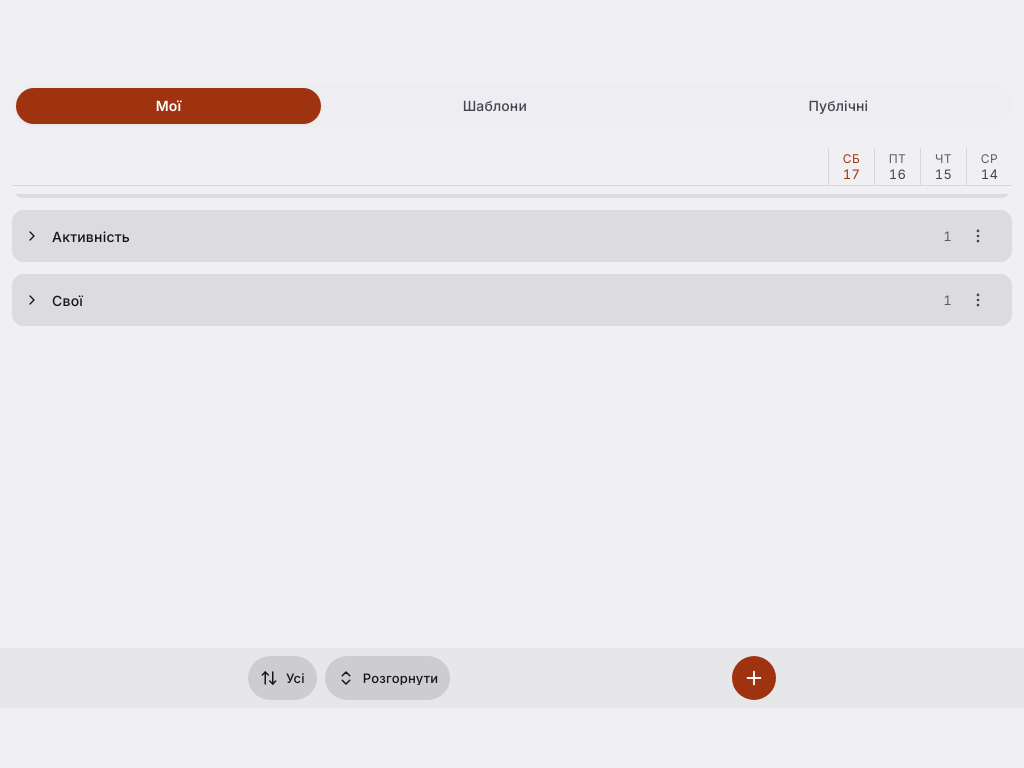
Test: пріоритет › порожній рівень каже, що саме порожнє
This screenshot has width=1024, height=768.
Step 1. Click the button "Усі" → (282, 678), box [248, 656, 317, 700]
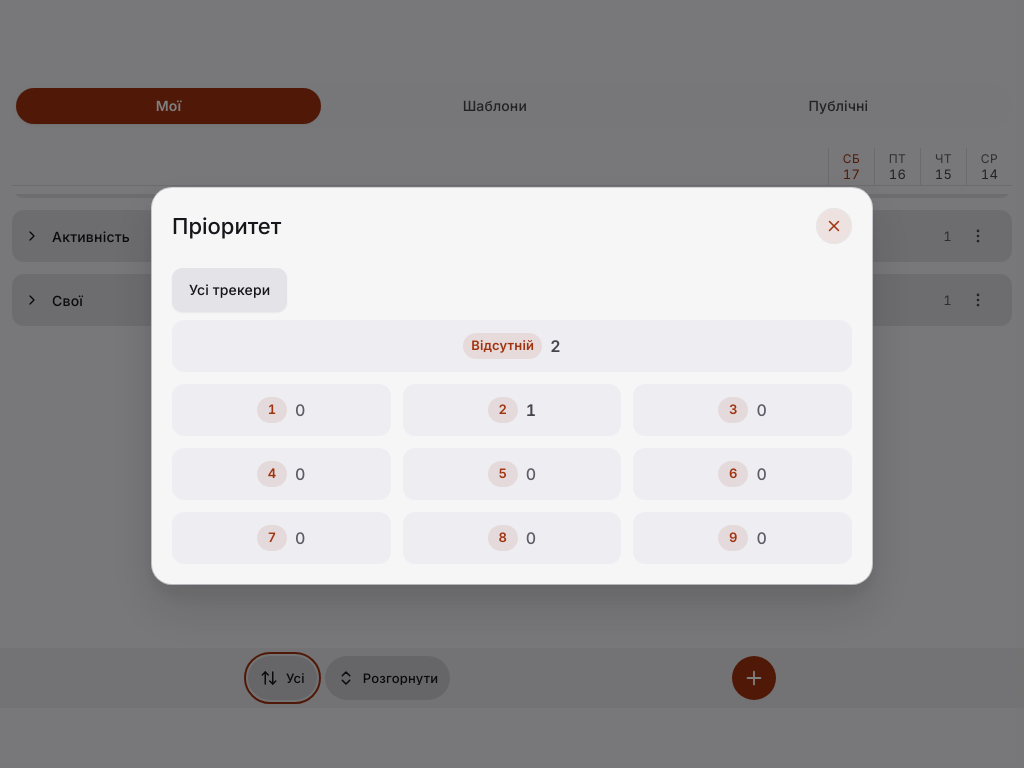
Step 2. Click the button named "9: трекерів 0" → (743, 538), box [633, 512, 852, 564]
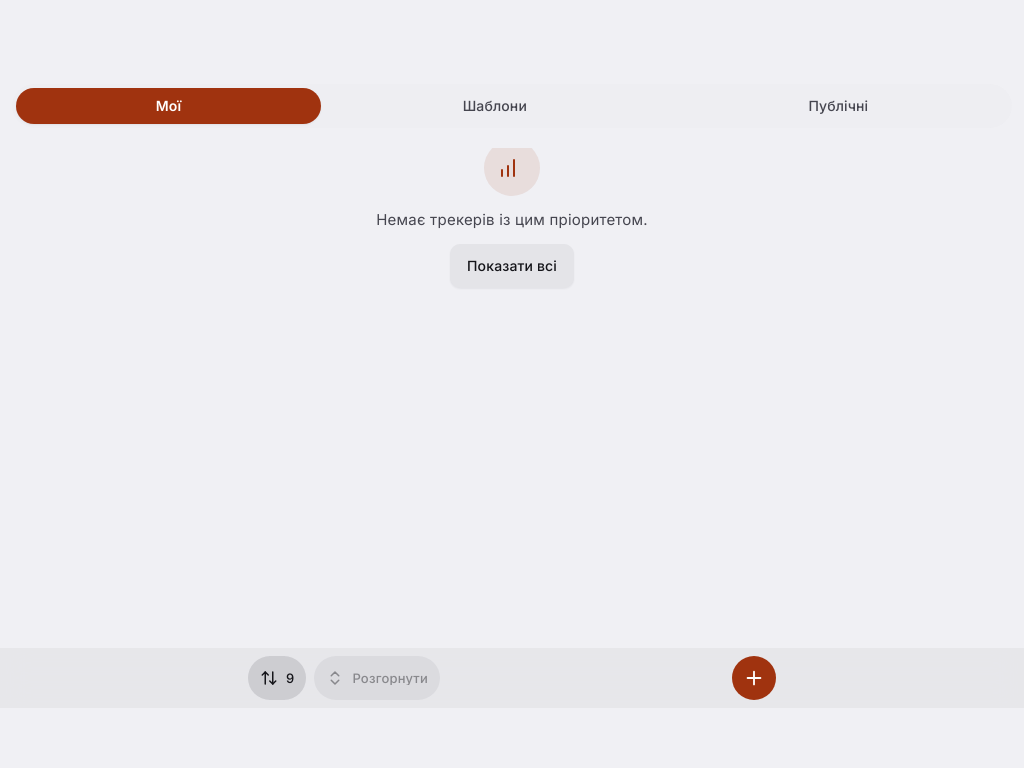
Now the text "Немає трекерів із цим пріоритетом." is shown, box [376, 208, 648, 232]
